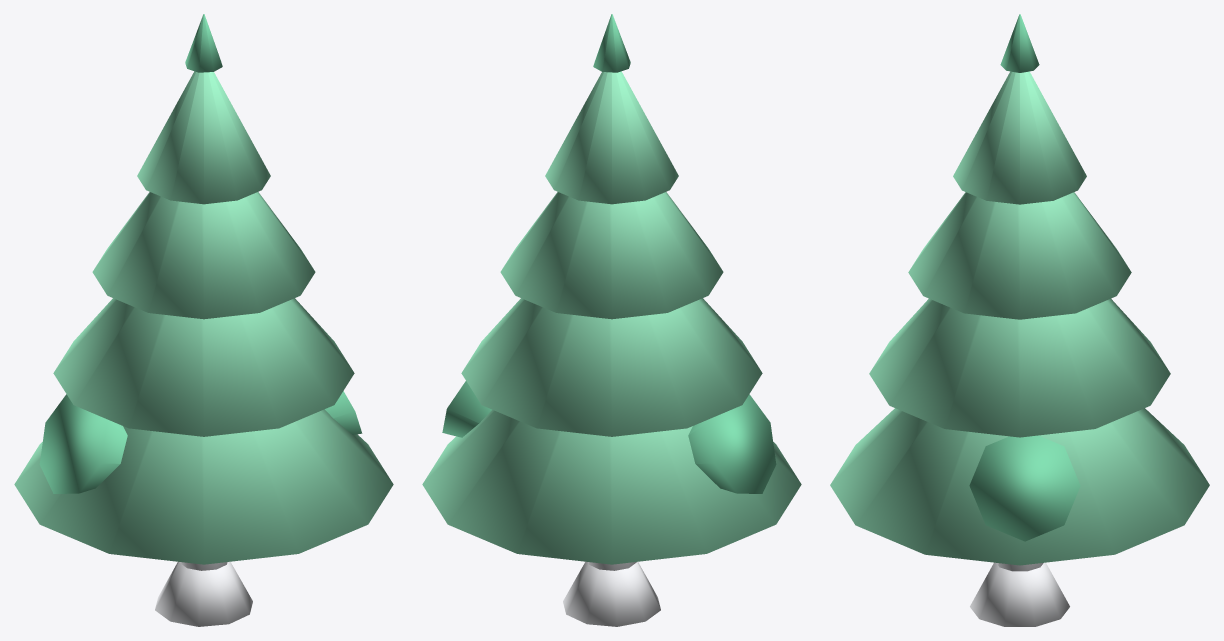
Rendered from tree.glb.
3 views of the same model, side by side, from view 1: azimuth 30°, elevation 25°; view 2: azimuth 150°, elevation 25°; view 3: azimuth 270°, elevation 25° (orthographic).
Parts seen in each view (by area): view 1: Tier1, Tier2, Tier3, Tier4, BranchL, Root, Tip, BranchR; view 2: Tier1, Tier2, Tier3, Tier4, BranchL, Root, BranchR, Tip; view 3: Tier1, Tier2, Tier3, Tier4, BranchR, Root, Tip.
Boxes of the visible parts, box(x1,y1,x2,y2) form: Tier1: box(14, 409, 393, 564); Tier2: box(53, 298, 354, 436); Tier3: box(92, 192, 315, 319); Tier4: box(137, 71, 270, 204); BranchL: box(39, 394, 127, 493); Root: box(155, 561, 252, 626); Tip: box(185, 14, 222, 72); BranchR: box(325, 391, 362, 434); Tier1: box(422, 410, 801, 564); Tier2: box(461, 298, 762, 436); Tier3: box(500, 192, 723, 319); Tier4: box(545, 71, 678, 204); BranchL: box(688, 394, 776, 493); Root: box(563, 561, 660, 626); BranchR: box(442, 381, 491, 437); Tip: box(593, 14, 630, 72); Tier1: box(830, 408, 1209, 565); Tier2: box(869, 298, 1170, 437); Tier3: box(908, 192, 1131, 319); Tier4: box(953, 71, 1086, 204); BranchR: box(969, 435, 1080, 541); Root: box(970, 562, 1069, 626); Tip: box(1000, 14, 1039, 72).
Bounding box in the file's own units: 0.68 × 1.17 × 0.68.
